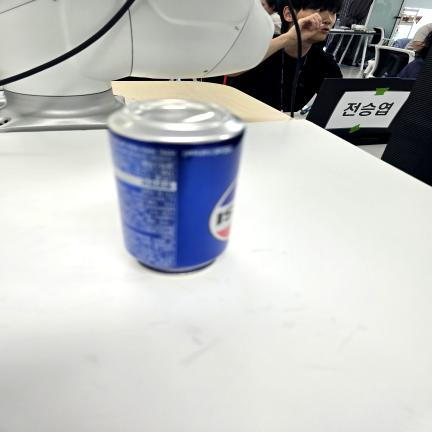can_pepsi: (108, 99, 245, 273)
